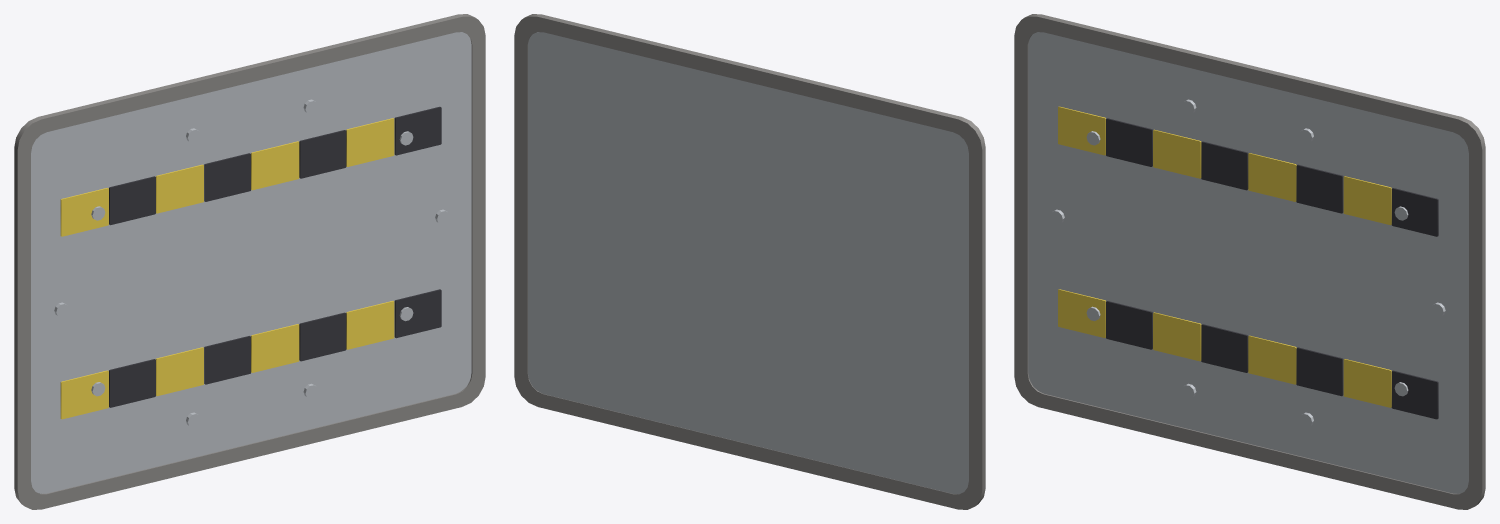
File: SM_DmgPatch.fbx
3 views of the same model, side by side, from view 1: azimuth 30°, elevation 25°; view 2: azimuth 150°, elevation 25°; view 3: azimuth 330°, elevation 25° (orthographic).
Parts seen in each view (by area): view 1: DmgPatch; view 2: DmgPatch; view 3: DmgPatch.
Boxes of the visible parts, box(x1,y1,x2,y2) form: DmgPatch: box(14, 14, 485, 509); DmgPatch: box(514, 14, 985, 509); DmgPatch: box(1014, 14, 1485, 509).
Bounding box in the file's own units: 0.59 × 0.47 × 0.0105.
